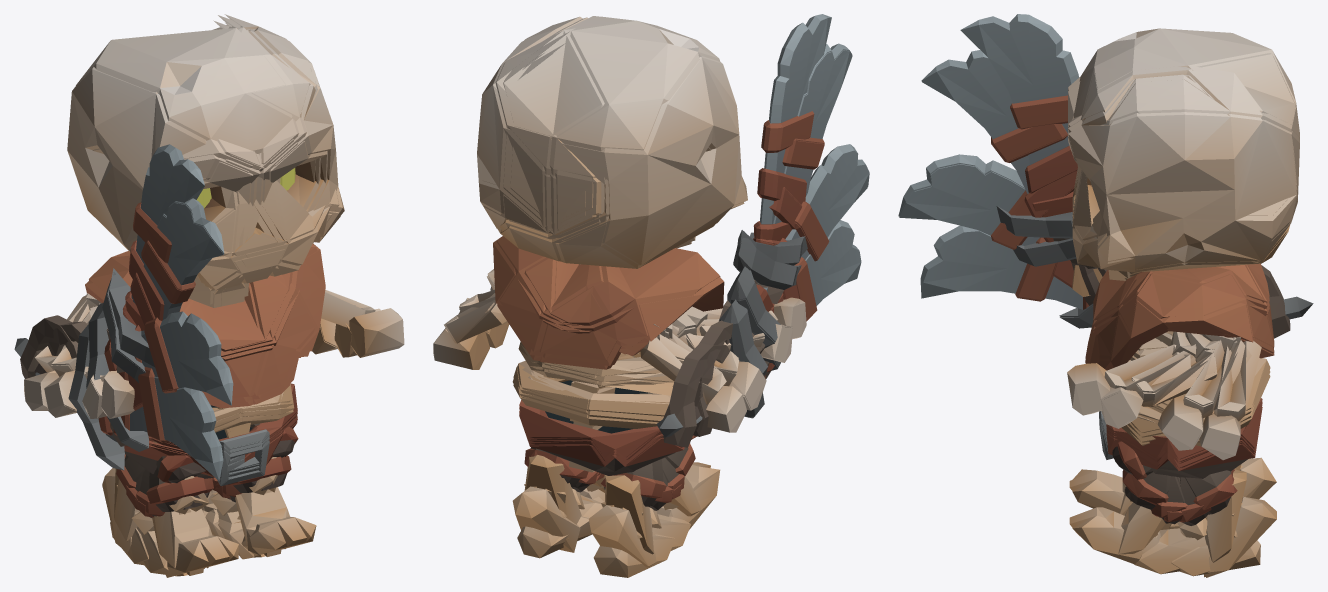
File: skeleton-minion.glb
3 views of the same model, side by side, from view 1: azimuth 30°, elevation 25°; view 2: azimuth 150°, elevation 25°; view 3: azimuth 270°, elevation 25° (orthographic). The views are drawn at different scales.
Parts seen in each view (by area): view 1: pose_3, pose_2, pose_0, pose_5, pose_4, pose_1; view 2: pose_3, pose_2, pose_5, pose_0, pose_4, pose_1; view 3: pose_0, pose_2, pose_5, pose_3, pose_1, pose_4.
Boxes of the visible parts, x1,y1,x2,y2 form: pose_3: (14,20,404,577); pose_2: (35,15,357,575); pose_0: (100,29,344,556); pose_5: (82,14,339,565); pose_4: (35,24,380,576); pose_1: (85,22,340,559); pose_3: (512,43,861,552); pose_2: (487,16,867,558); pose_5: (459,16,852,577); pose_0: (433,14,831,567); pose_4: (487,53,869,550); pose_1: (458,43,852,554); pose_0: (960,14,1299,564); pose_2: (899,28,1299,576); pose_5: (922,53,1299,554); pose_3: (920,126,1313,577); pose_1: (921,50,1299,574); pose_4: (898,132,1299,562).
Size of the model in its own units: 0.6128 by 1.02 by 0.7543.
